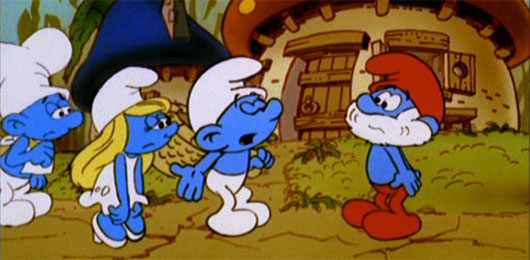smurf: (338, 52, 449, 237), (76, 64, 179, 248), (180, 57, 276, 234), (1, 29, 67, 227)
